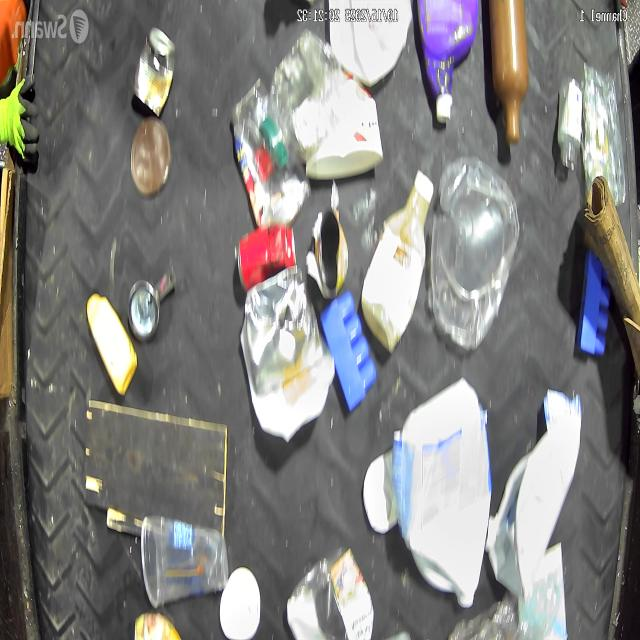can: (132, 24, 176, 119), (236, 224, 296, 292), (313, 209, 349, 299), (126, 278, 160, 342)
milk_jug: (399, 375, 492, 609), (327, 0, 414, 88)
non_white_jug: (415, 0, 479, 124)
